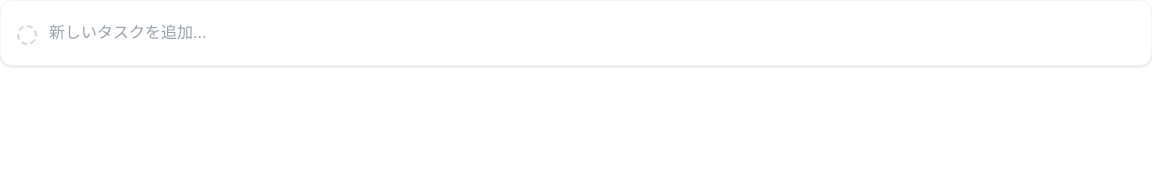
Test: TodoForm › タイトル入力後に追加ボタンが有効になる
In the field with placeholder "新しいタスクを追加...": coordinates (592, 33) [49,17,1135,49], type "新しいタスク"
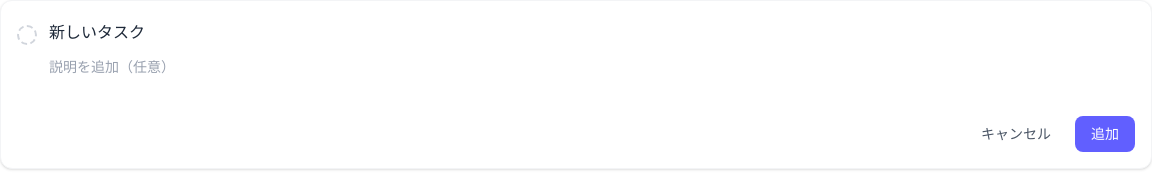
Expected: the button "追加" is enabled, [1075,116,1135,152]
